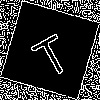T: (25, 25, 75, 80)
